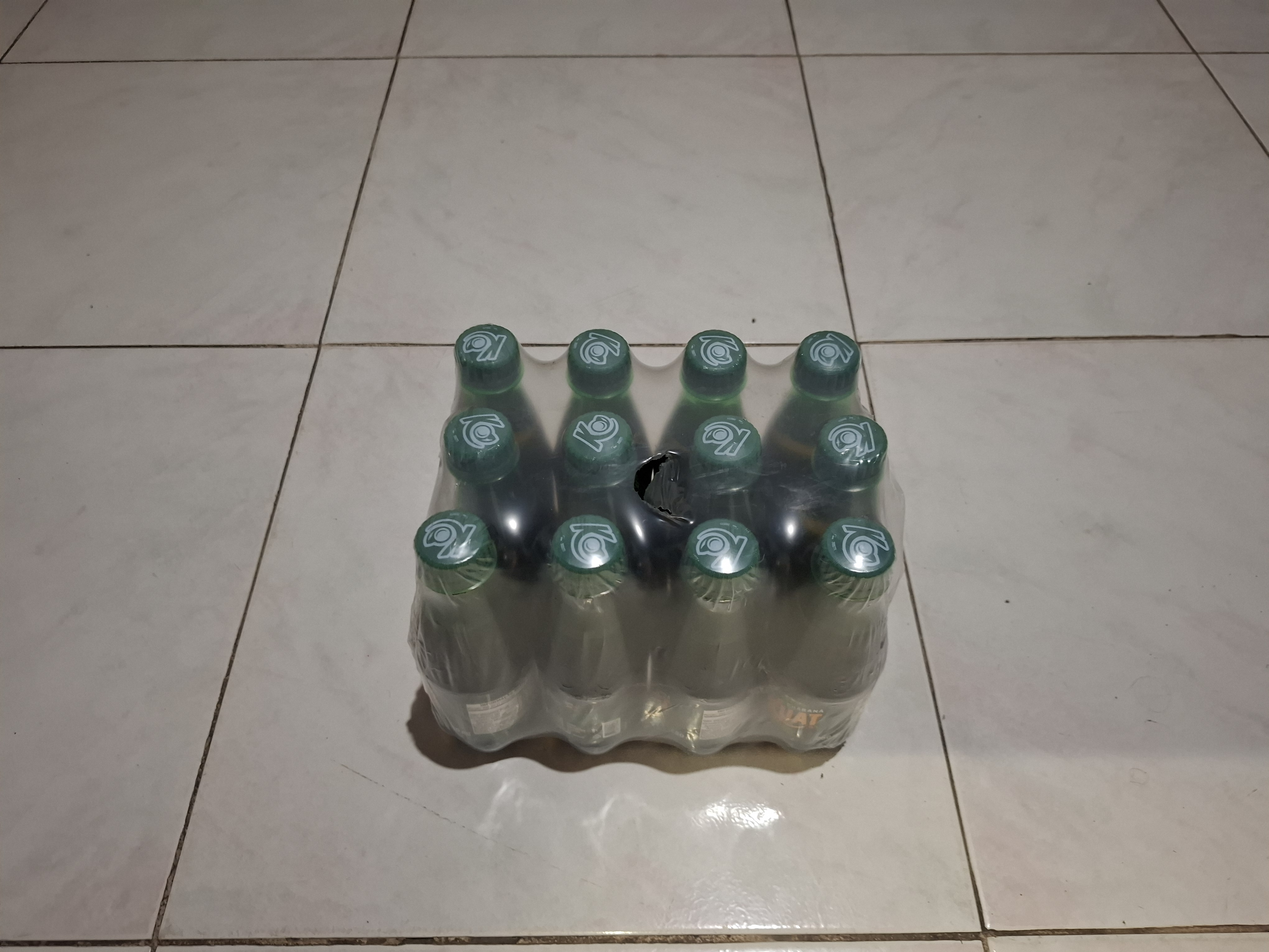Tampa Refrigerante Kuat: (681, 515, 764, 596), (817, 513, 896, 589), (414, 507, 493, 582), (449, 317, 523, 394), (552, 514, 622, 593), (567, 320, 637, 395), (816, 411, 892, 479), (680, 325, 751, 395), (440, 407, 511, 473), (690, 410, 759, 477), (568, 405, 630, 466), (802, 327, 858, 387)
